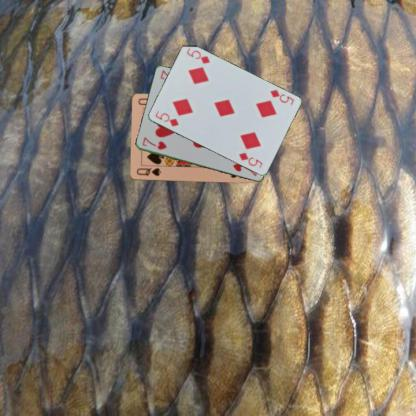5d: (152, 108, 180, 128), (268, 88, 295, 106)
7h: (139, 134, 168, 151)
Qs: (134, 166, 162, 178)
